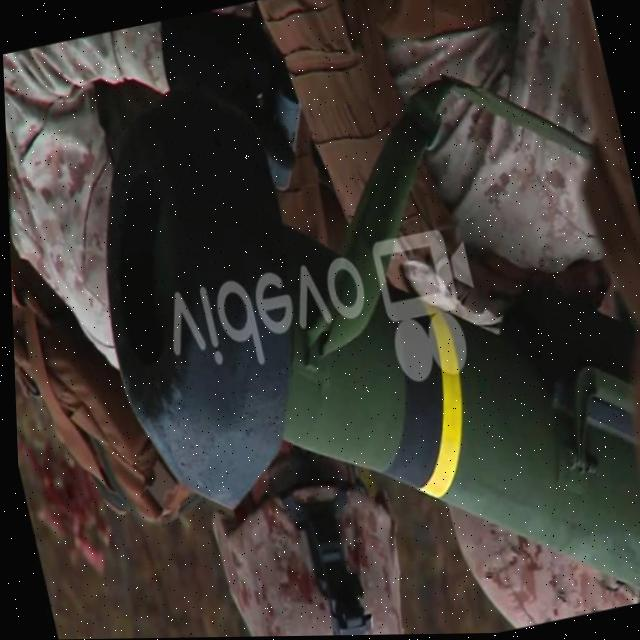rocket: (57, 28, 640, 639)
